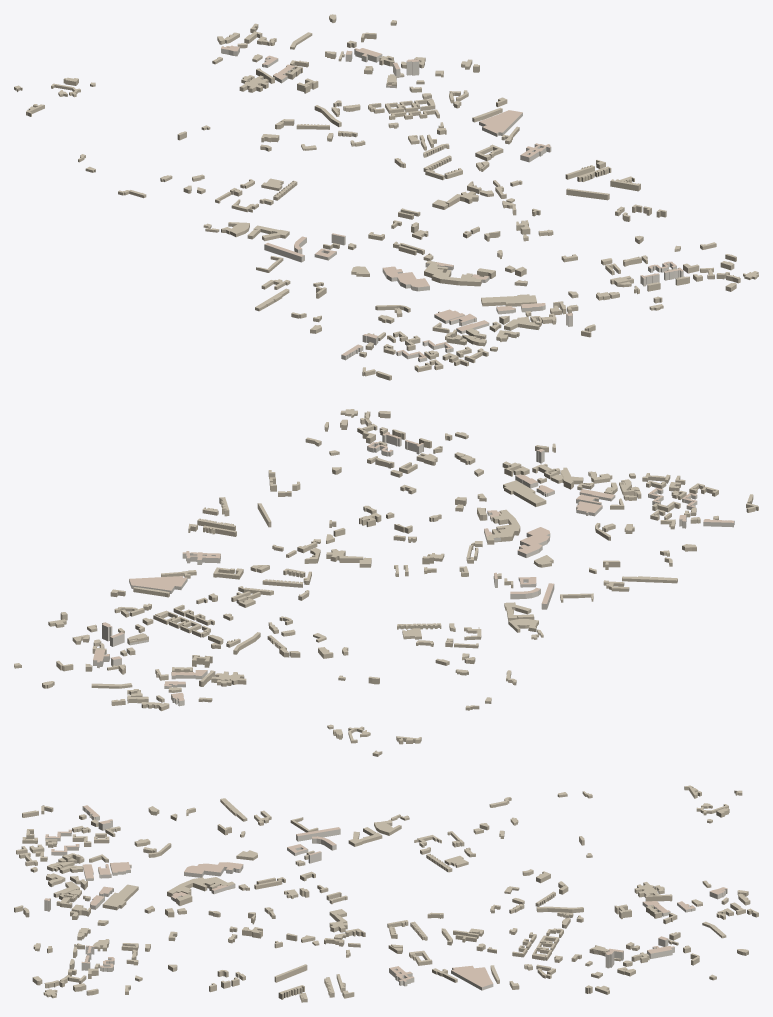
The picture shows the model from 3 angles, top to bottom: view 1: azimuth 30°, elevation 25°; view 2: azimuth 150°, elevation 25°; view 3: azimuth 270°, elevation 25°; orthographic projection. The views are drawn at different scales.
Bounding box in the file's own units: 1564 × 103 × 2474.
